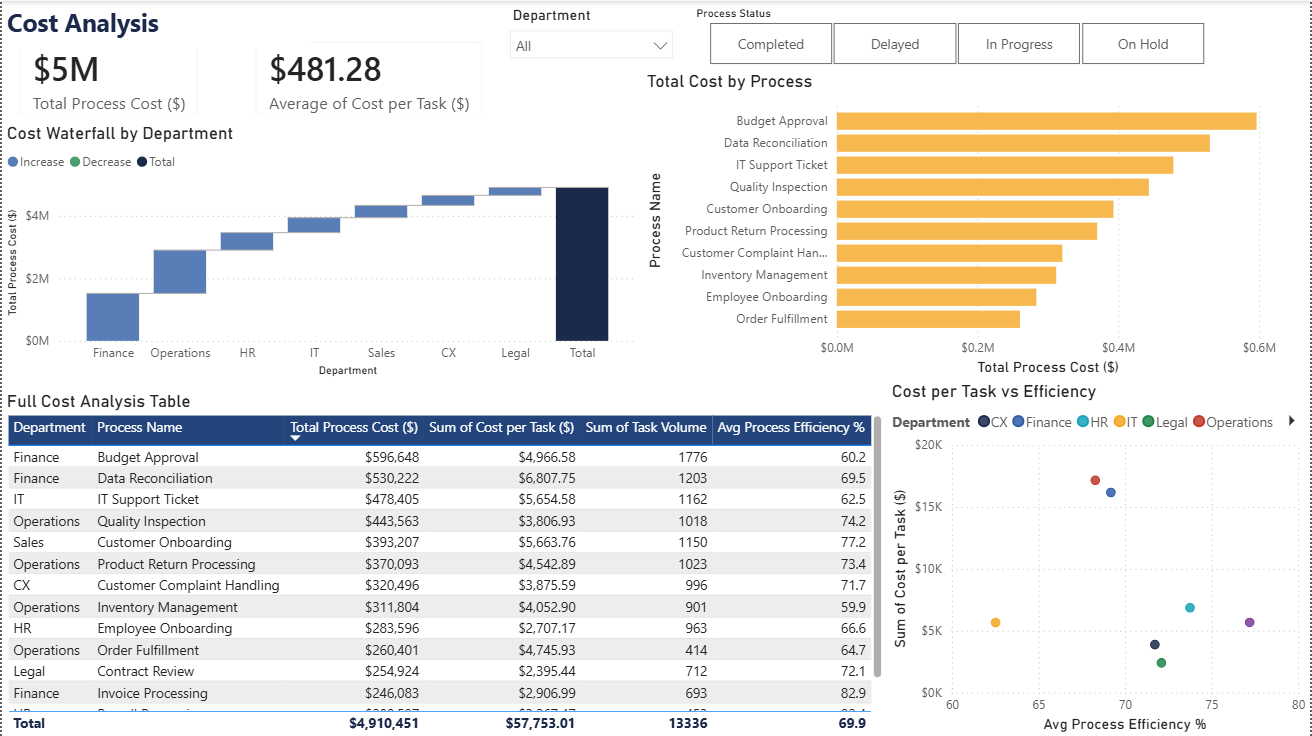

The dashboard page shown, as its layout file describes it:
{"tool":"powerbi","page":{"name":"Cost Analysis","canvas":[1280,720],"ordinal":4},"visuals":[{"type":"slicer","title":"Filter by Department","fields":{"Values":["process_data.Department"]},"box":[487.1,0,179.8,68.6],"z":0},{"type":"slicer","fields":{"Values":["process_data.Process Status"]},"box":[666.9,0,533.8,68.6],"z":1},{"type":"cardVisual","fields":{"Data":["process_data.Total Process Cost ($)"]},"box":[0,23.3,209.9,105.7],"z":2},{"type":"cardVisual","fields":{"Data":["Avg(process_data.Cost per Task ($))"]},"box":[230.5,23.3,256.6,105.7],"z":3},{"type":"waterfallChart","title":"Cost Waterfall by Department","fields":{"Category":["process_data.Department"],"Y":["process_data.Total Process Cost ($)"]},"box":[0,118,625.7,253.9],"z":4},{"type":"clusteredBarChart","title":"Total Cost by Process","fields":{"Category":["process_data.Process Name"],"Y":["process_data.Total Process Cost ($)"]},"box":[625.7,68.6,625.7,303.3],"z":5},{"type":"scatterChart","title":"Cost per Task vs Efficiency","fields":{"X":["process_data.Avg Process Efficiency %"],"Y":["Sum(process_data.Cost per Task ($))"],"Series":["process_data.Department"]},"box":[865.9,371.9,414.4,348.5],"z":6},{"type":"tableEx","title":"Full Cost Analysis Table","fields":{"Values":["process_data.Department","process_data.Process Name","process_data.Total Process Cost ($)","Sum(process_data.Cost per Task ($))","Sum(process_data.Task Volume)","process_data.Avg Process Efficiency %"]},"box":[0,381.5,865.9,338.9],"z":7},{"type":"textbox","box":[0,0,300.5,46.7],"z":8}]}

Visuals, with their boxes in screenshot pixels (x1, y1, x2, y2), scaled from the page's 1280x720 canvas onto the 1312x736 screenshot:
"Filter by Department" slicer: (x1=499, y1=0, x2=684, y2=70)
slicer - process_data.Process Status: (x1=684, y1=0, x2=1231, y2=70)
cardVisual - process_data.Total Process Cost ($): (x1=0, y1=24, x2=215, y2=132)
cardVisual - Avg(process_data.Cost per Task ($)): (x1=236, y1=24, x2=499, y2=132)
"Cost Waterfall by Department" waterfallChart: (x1=0, y1=121, x2=641, y2=380)
"Total Cost by Process" clusteredBarChart: (x1=641, y1=70, x2=1283, y2=380)
"Cost per Task vs Efficiency" scatterChart: (x1=888, y1=380, x2=1311, y2=735)
"Full Cost Analysis Table" tableEx: (x1=0, y1=390, x2=888, y2=735)
textbox: (x1=0, y1=0, x2=308, y2=48)
